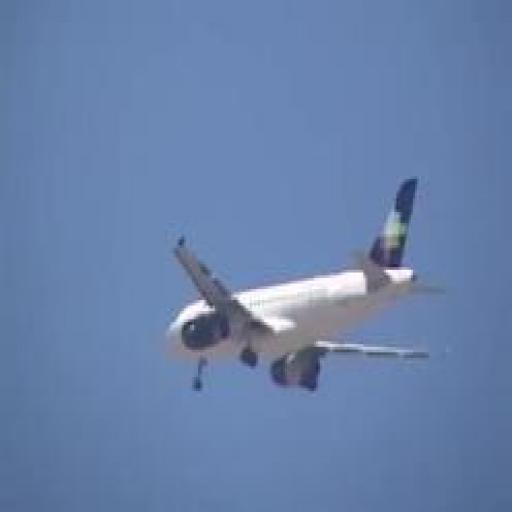aircraft: (159, 174, 446, 394)
